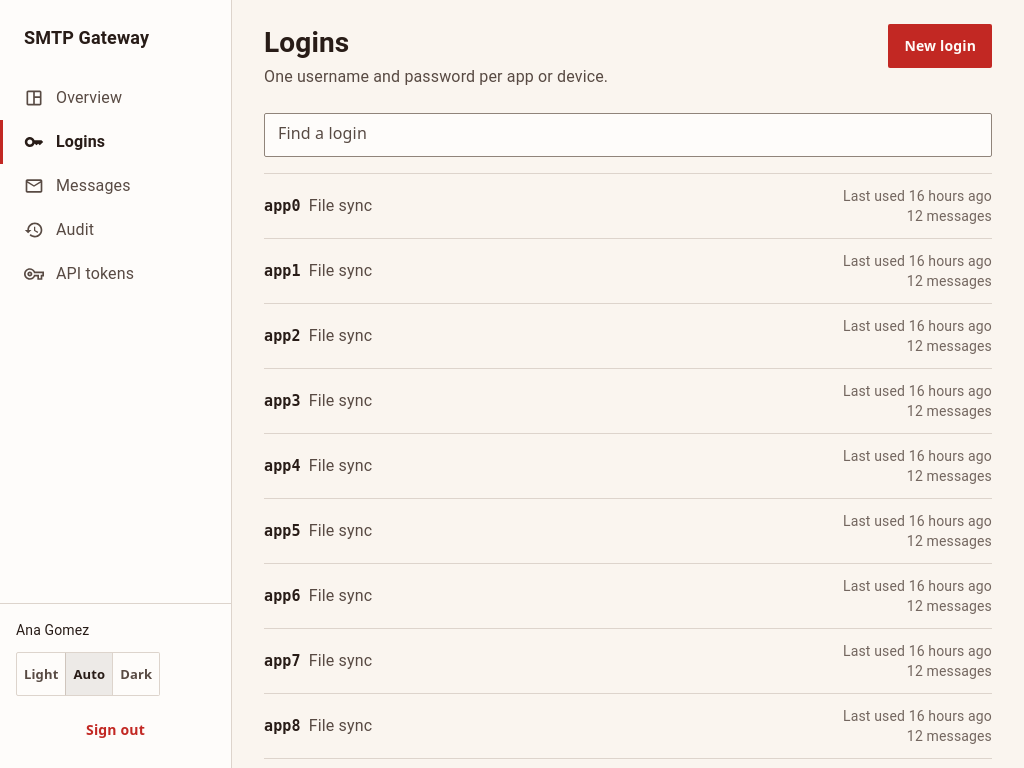
Scenario: Logins list › shows the search field and filters when there are more than 8
expect the text "app0" is shown: met, box [264,195,301,218]
Type "app3" into the field labelled "Find a login" at (628, 135), box [264,124,992,147]
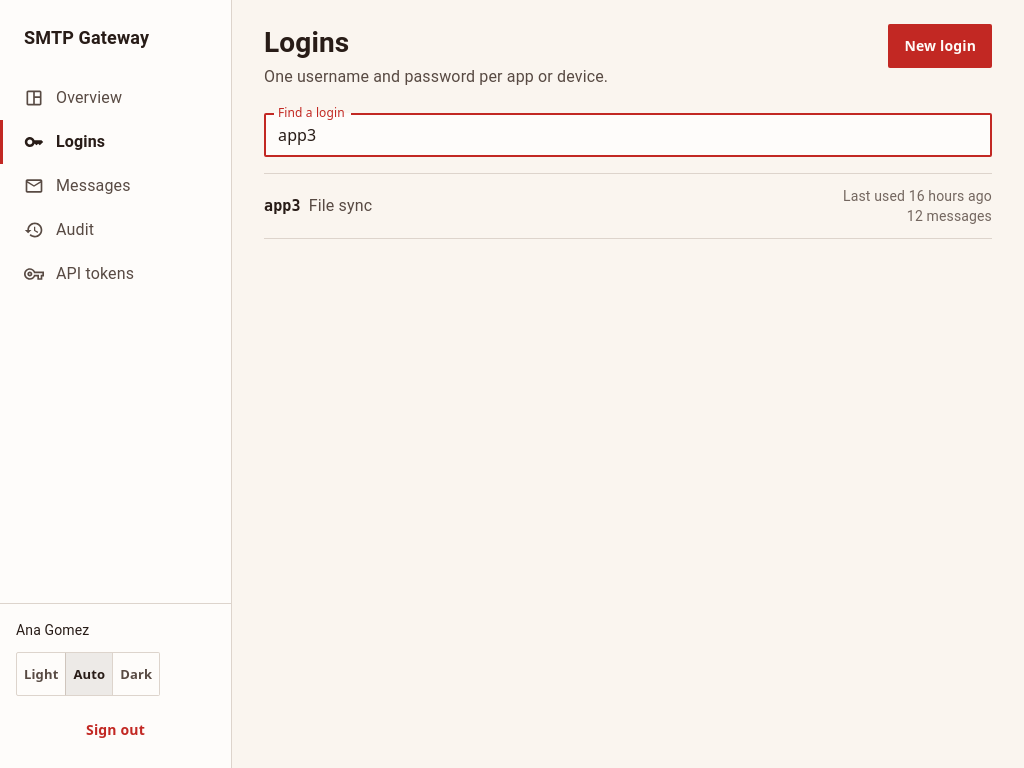
expect the text "app3" is shown: met, box [264,195,301,218]
expect the link "app0" is gone: met
